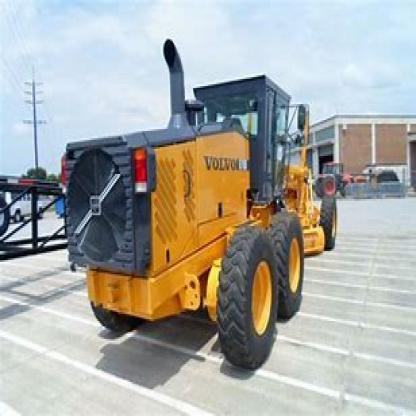bull_dozer/loader/grader: (68, 41, 380, 371)
